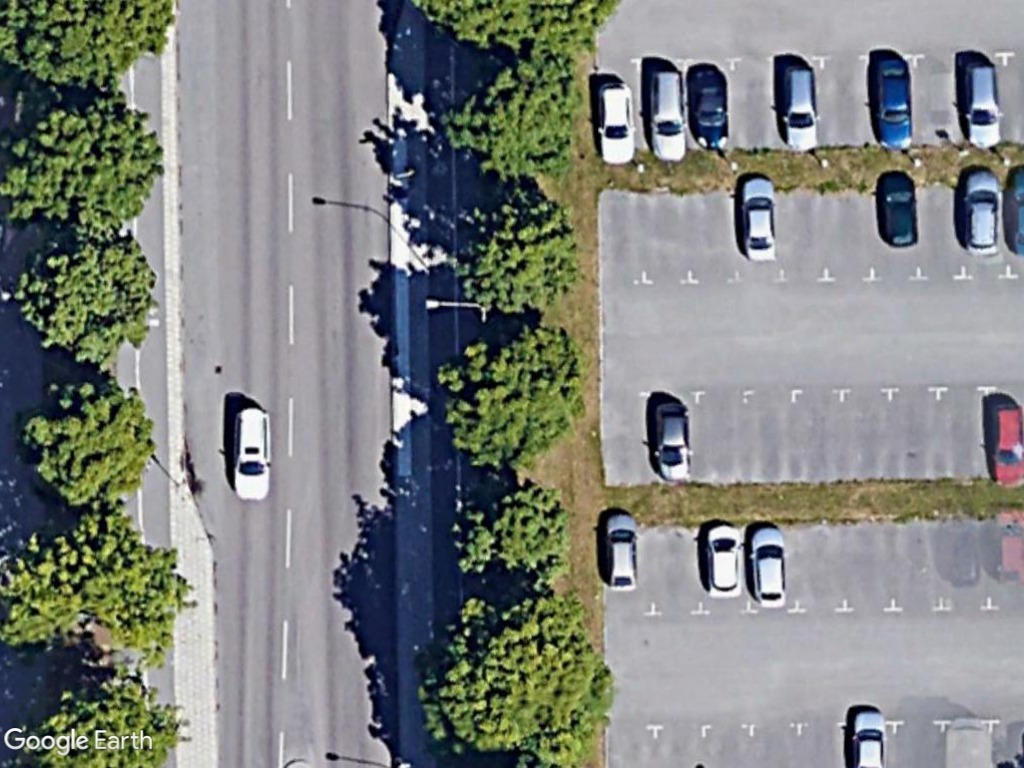car: (863, 51, 922, 154), (220, 401, 276, 505), (638, 61, 692, 164), (953, 163, 1009, 260), (731, 167, 783, 267), (589, 75, 643, 171), (960, 55, 1011, 154), (873, 164, 927, 253), (685, 60, 734, 156), (649, 394, 699, 488), (777, 57, 824, 156), (595, 507, 646, 597), (694, 518, 748, 601), (748, 517, 790, 614), (985, 394, 1024, 492)
